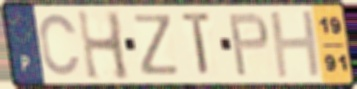C: (37, 12, 83, 78)
H: (74, 7, 133, 82), (267, 8, 325, 81)
P: (226, 11, 272, 79)
T: (181, 10, 214, 79)
Z: (131, 12, 181, 77)
